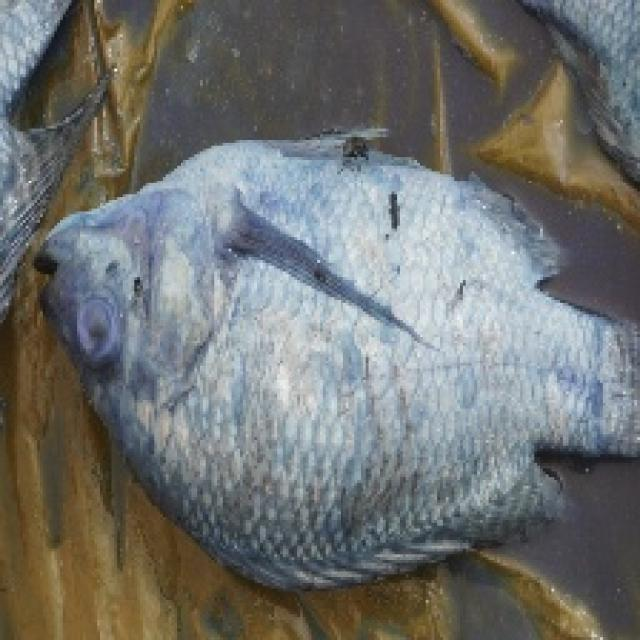Non-Fresh: (153, 180, 516, 482), (60, 278, 161, 405)
